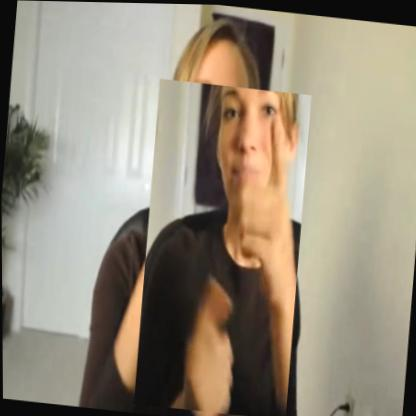NiceToMeetYou: (131, 78, 313, 416)
